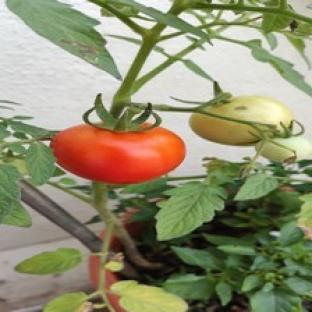Tomato: (52, 124, 185, 183), (205, 97, 293, 130), (255, 136, 311, 161)
